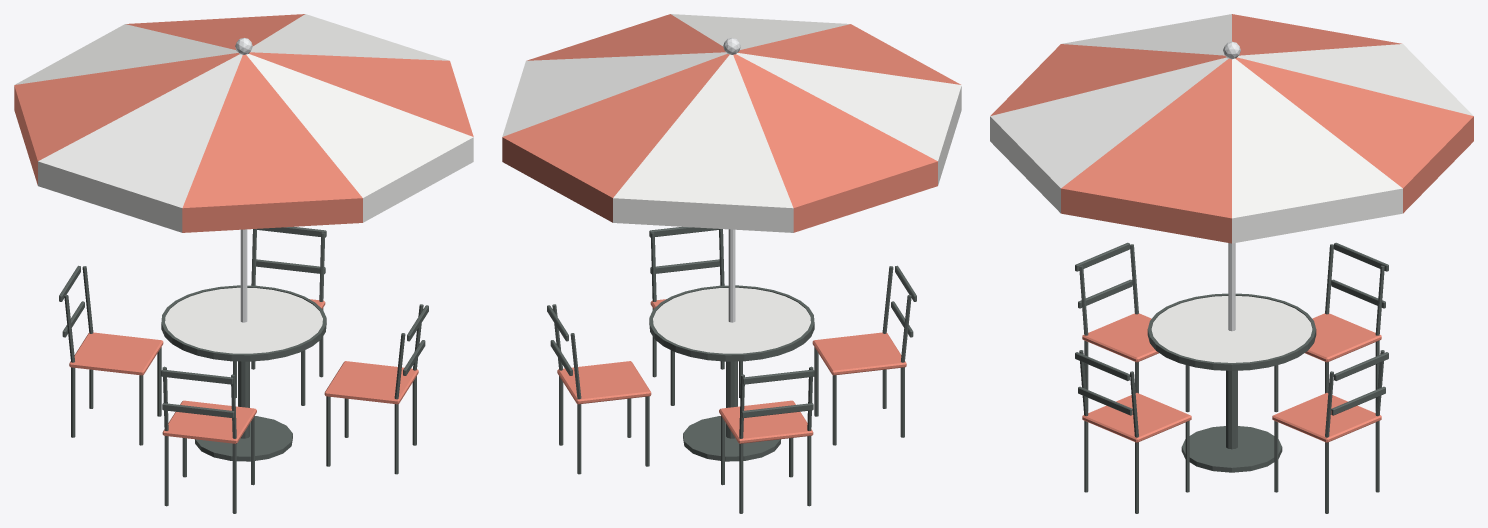
File: umbrella_r.glb
3 views of the same model, side by side, from view 1: azimuth 30°, elevation 25°; view 2: azimuth 150°, elevation 25°; view 3: azimuth 270°, elevation 25° (orthographic).
Visible parts, largest first — view 1: umbrella_r_paint_w, umbrella_r_umb_r, umbrella_r_iron, umbrella_r_chrome; view 2: umbrella_r_umb_r, umbrella_r_paint_w, umbrella_r_iron, umbrella_r_chrome; view 3: umbrella_r_umb_r, umbrella_r_paint_w, umbrella_r_iron, umbrella_r_chrome.
Boxes of the visible parts, <box> form: umbrella_r_paint_w: <box>15,14,473,353</box>; umbrella_r_umb_r: <box>14,14,473,443</box>; umbrella_r_iron: <box>59,226,428,513</box>; umbrella_r_chrome: <box>235,38,252,322</box>; umbrella_r_umb_r: <box>502,14,960,443</box>; umbrella_r_paint_w: <box>502,14,961,353</box>; umbrella_r_iron: <box>547,226,916,513</box>; umbrella_r_chrome: <box>723,38,740,322</box>; umbrella_r_umb_r: <box>990,14,1473,442</box>; umbrella_r_paint_w: <box>990,14,1473,362</box>; umbrella_r_iron: <box>1075,242,1388,513</box>; umbrella_r_chrome: <box>1223,41,1240,331</box>.
Size of the model in its own units: 2.7 by 2.52 by 2.7.
